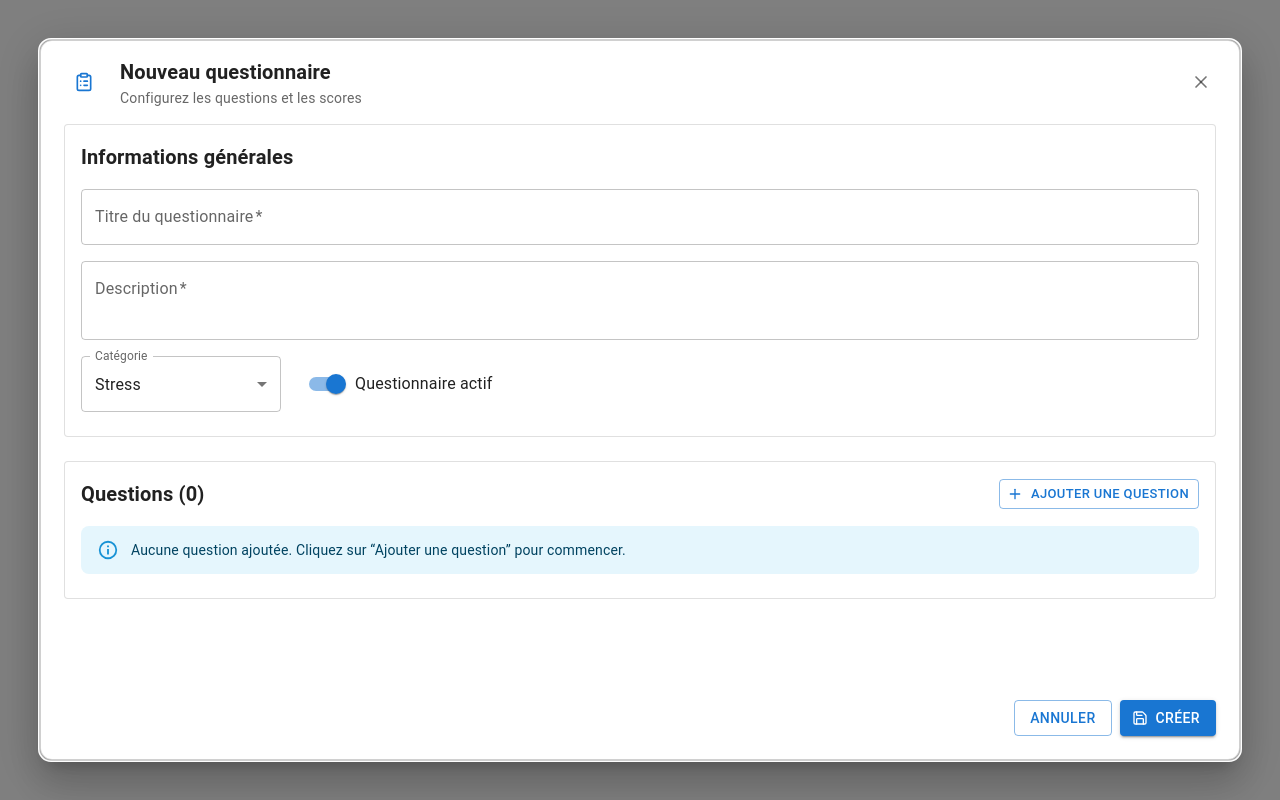
it: QuestionnaireModal › affiche les erreurs de validation si le titre est vide
What coordinates should you click on to do the following:
click the button "Créer"
I would click on:
 (1168, 718)
Its box is [1120,700,1216,736].
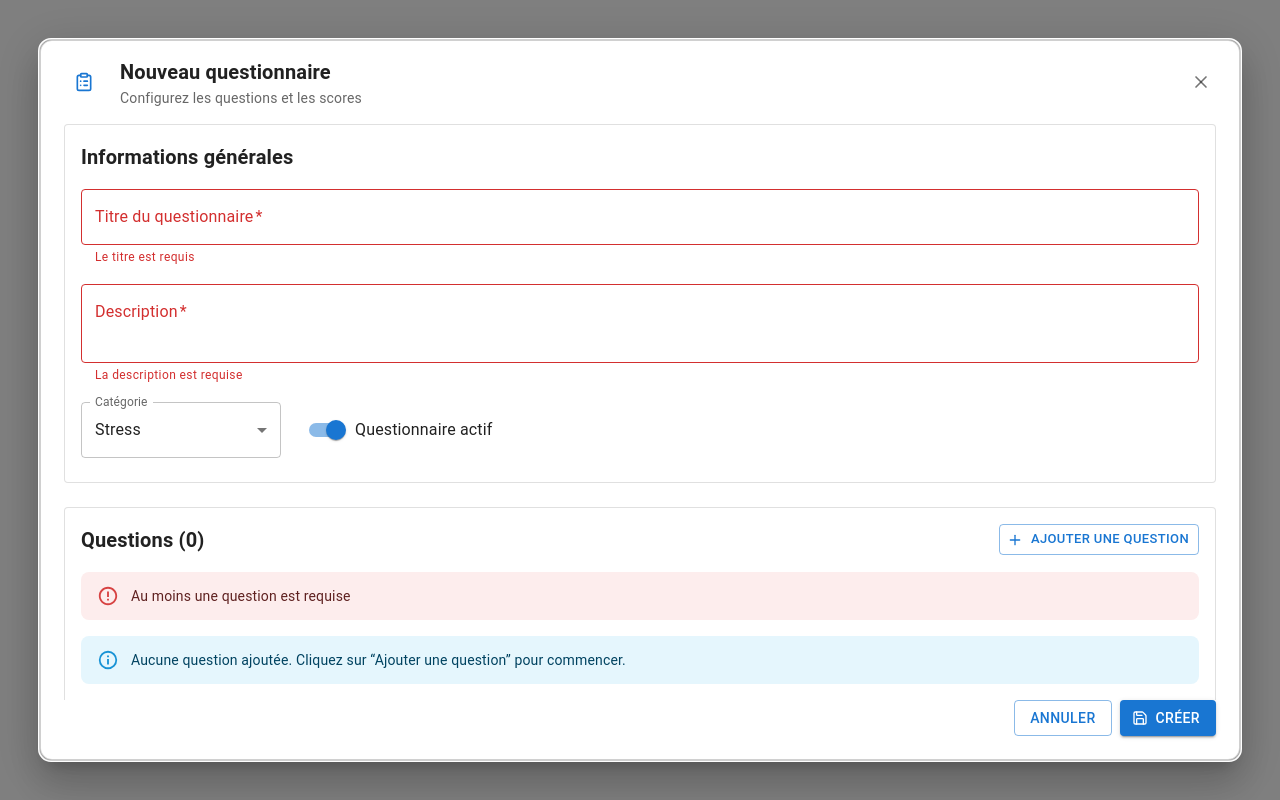
expect the text "Le titre est requis" is shown: met, box [95,250,195,264]
